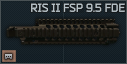AR-15 Daniel Defense RIS II FSP 9.5 handguard Flat Dark Earth: (0, 0, 127, 64)
